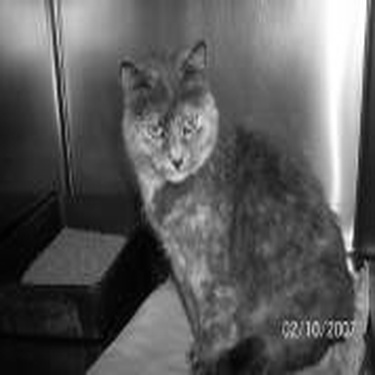cat: (116, 37, 352, 372)
